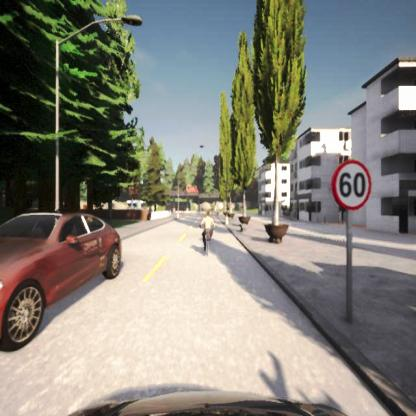bike: (200, 210, 215, 253)
vehicle: (0, 211, 124, 353)
